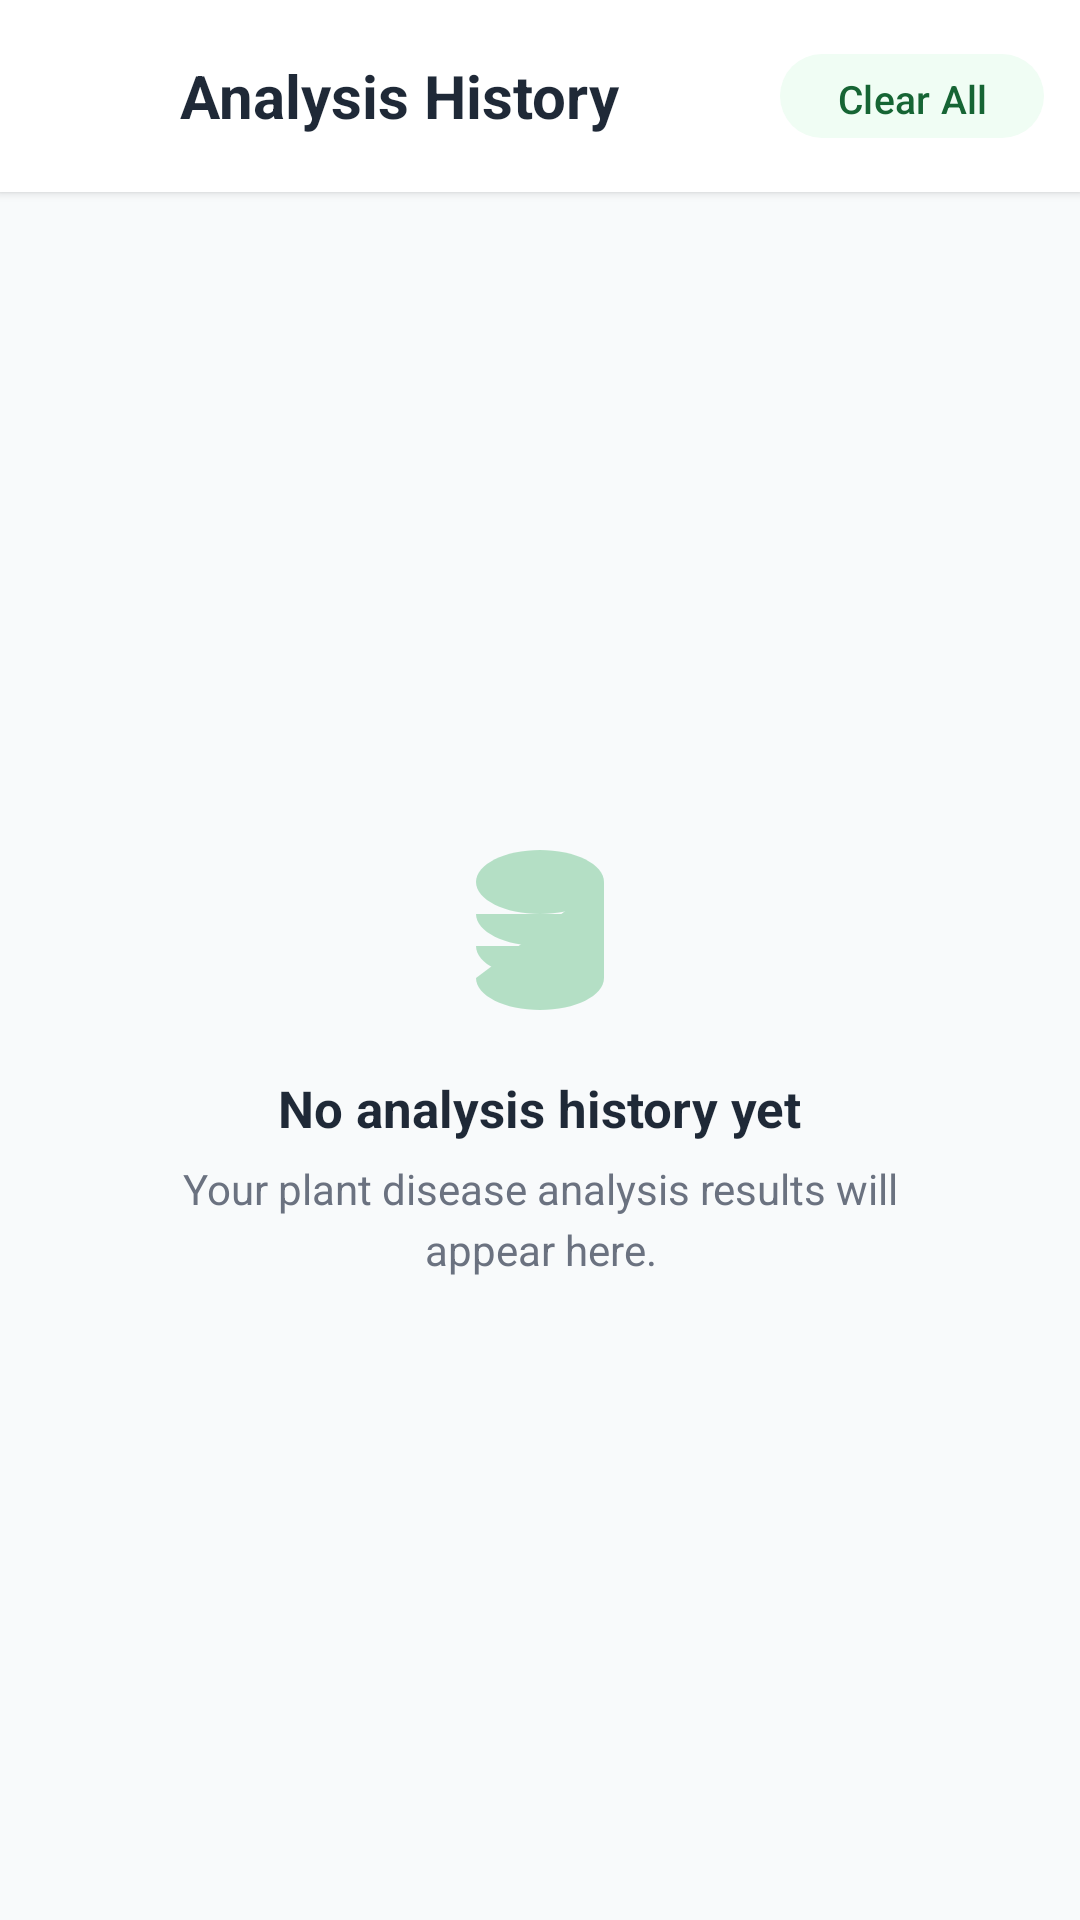

Icon bounding boxes for this 1080px×1920px phone screenshot, format (x1, y1, x2, y2):
database: (476, 850, 604, 1010)
